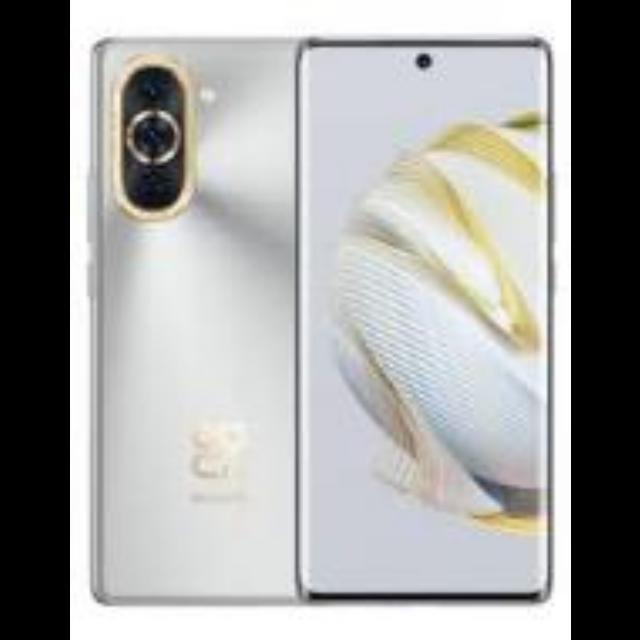Phone: (303, 36, 555, 604), (88, 34, 300, 606)
